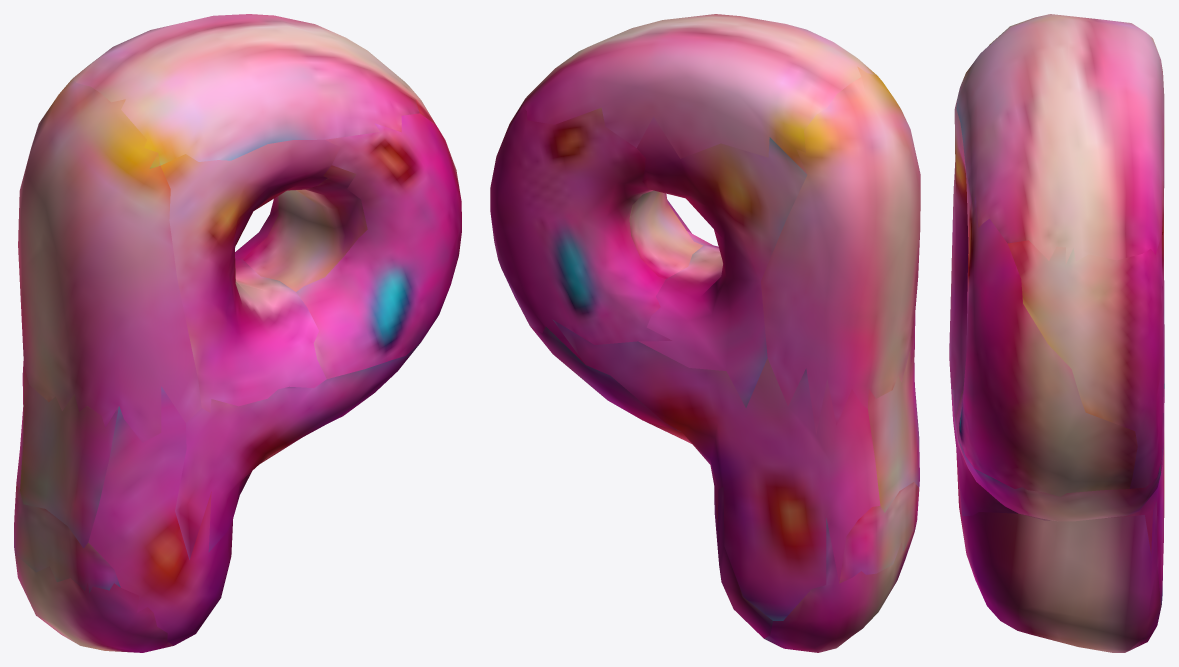
The picture shows the model from 3 angles, left to right: view 1: azimuth 30°, elevation 25°; view 2: azimuth 150°, elevation 25°; view 3: azimuth 270°, elevation 25°; orthographic projection. The views are drawn at different scales.
Visible parts, largest first — view 1: Candy-Letter-P; view 2: Candy-Letter-P; view 3: Candy-Letter-P.
Boxes of the visible parts, bbox=[...] form: Candy-Letter-P: bbox=[14, 14, 461, 652]; Candy-Letter-P: bbox=[490, 14, 920, 652]; Candy-Letter-P: bbox=[949, 14, 1164, 652].
Size of the model in its own units: 0.2513 by 0.3563 by 0.1077.
Materials: 1 (1 with a texture image).
